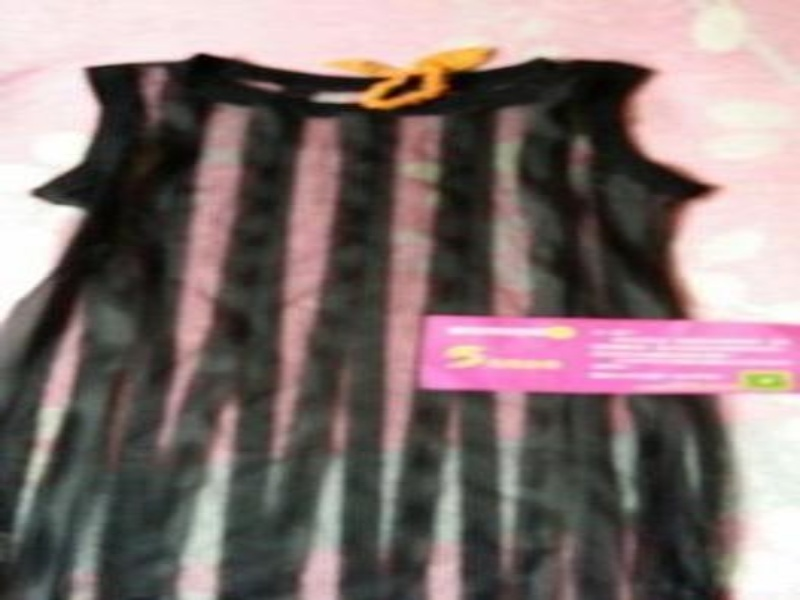vest_dress: (0, 42, 721, 599)
